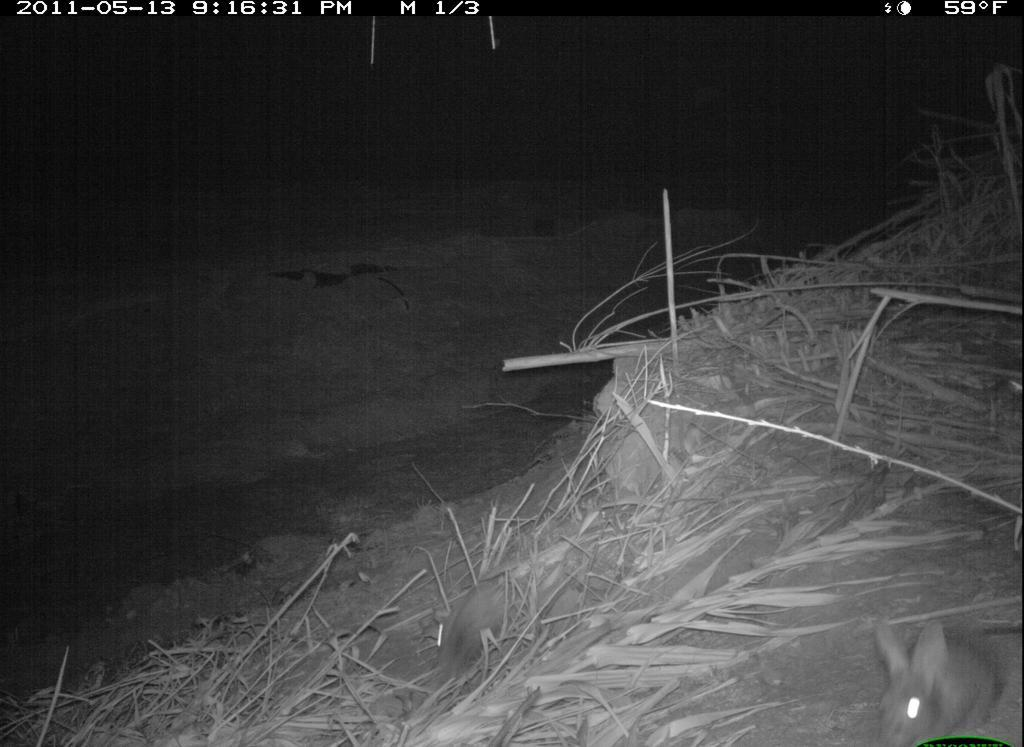rabbit: (850, 606, 1016, 743)
